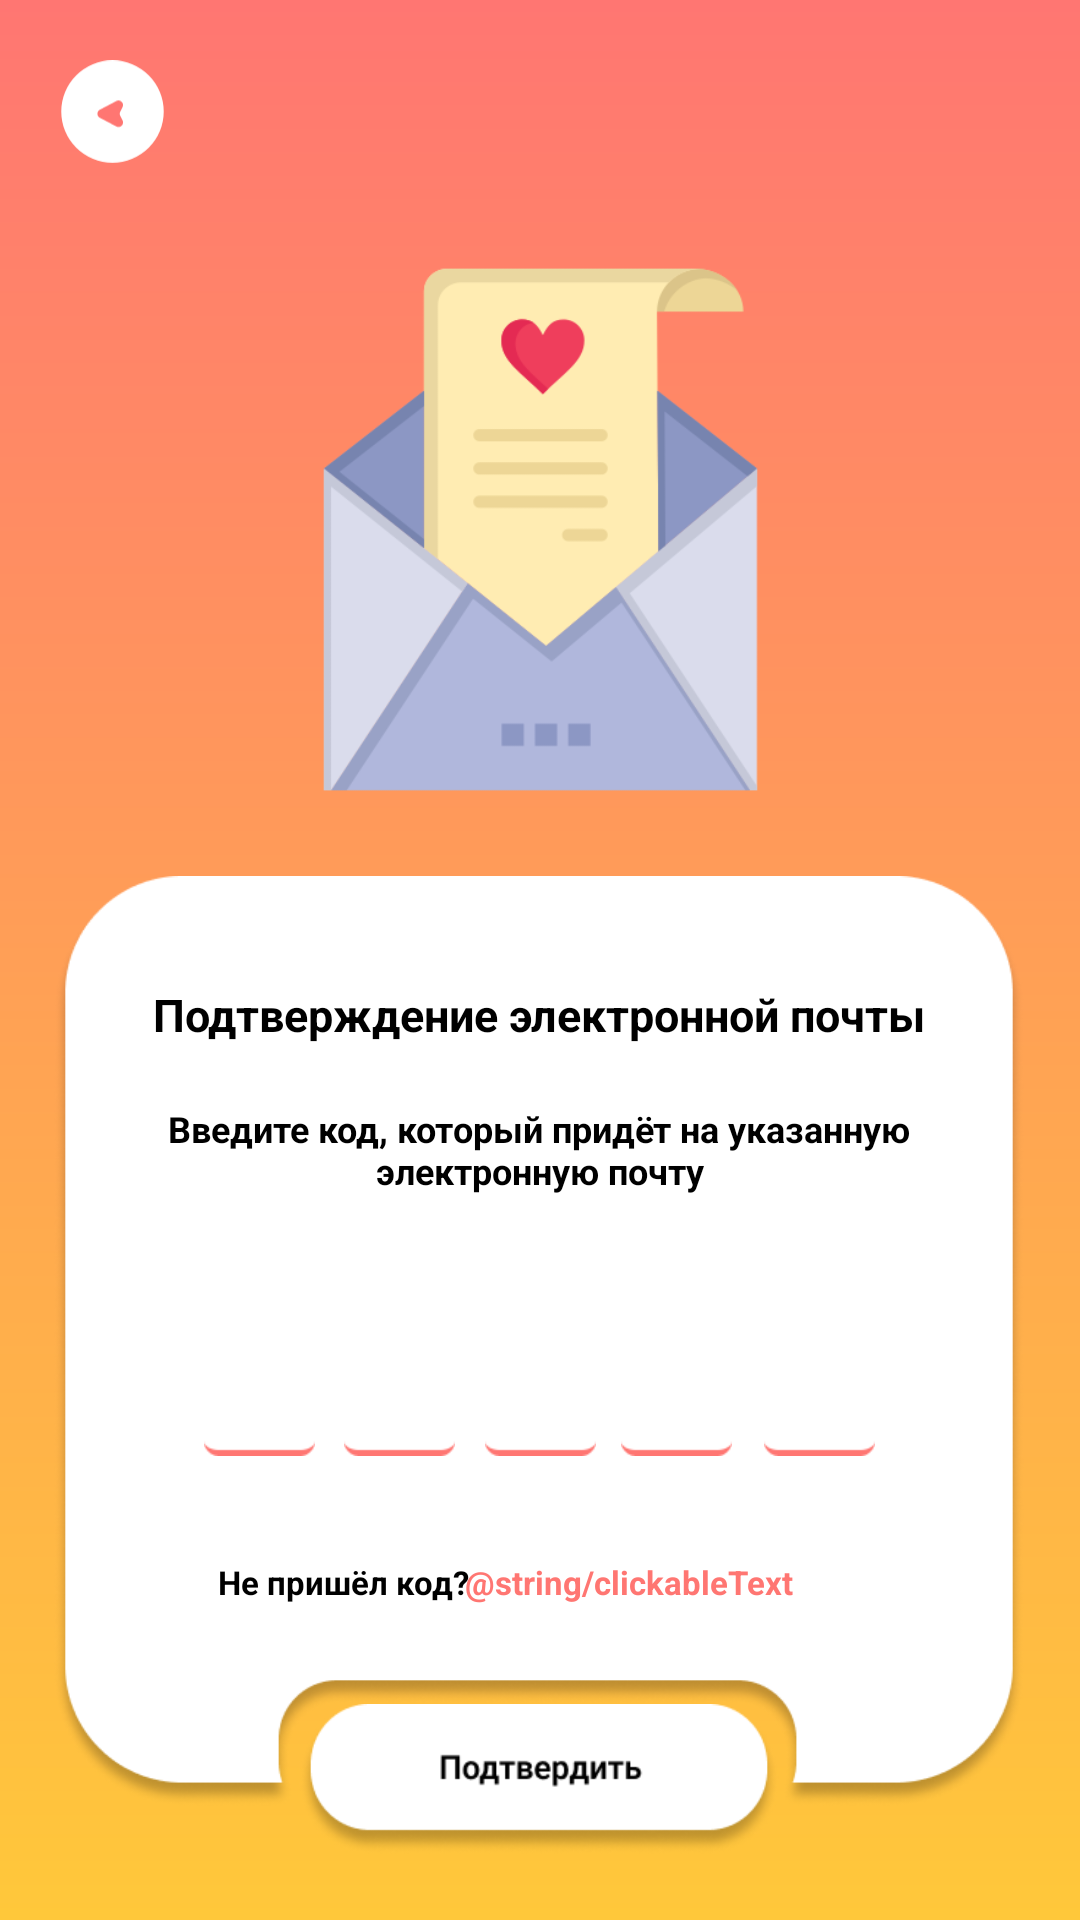

Icons on this 1080w x 1920h Android screen, each with its box as rect(x1, y1, x2, y2):
back: rect(61, 60, 164, 163)
